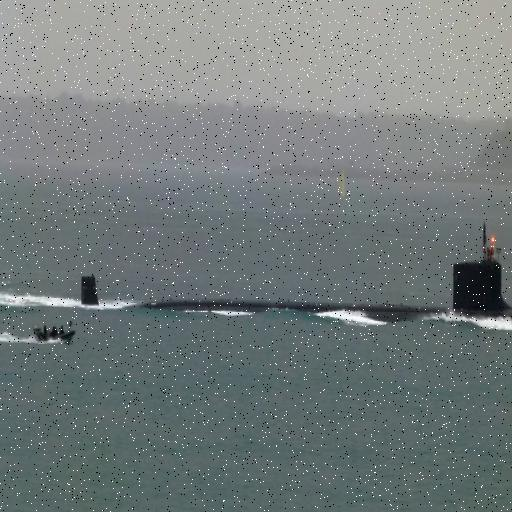submarine: (80, 256, 512, 330)
